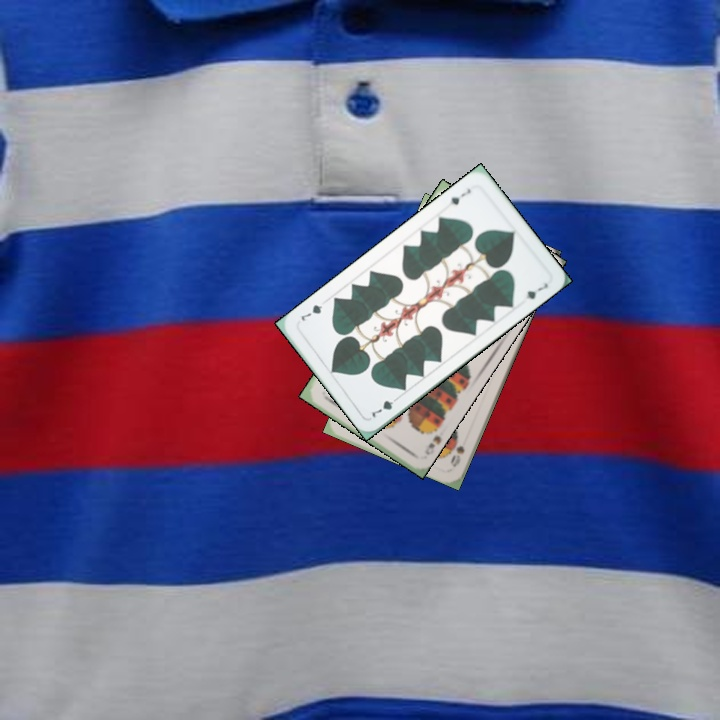G7: (367, 392, 402, 420), (442, 185, 473, 209)
S9: (420, 420, 442, 458)
SO: (446, 441, 467, 470)
